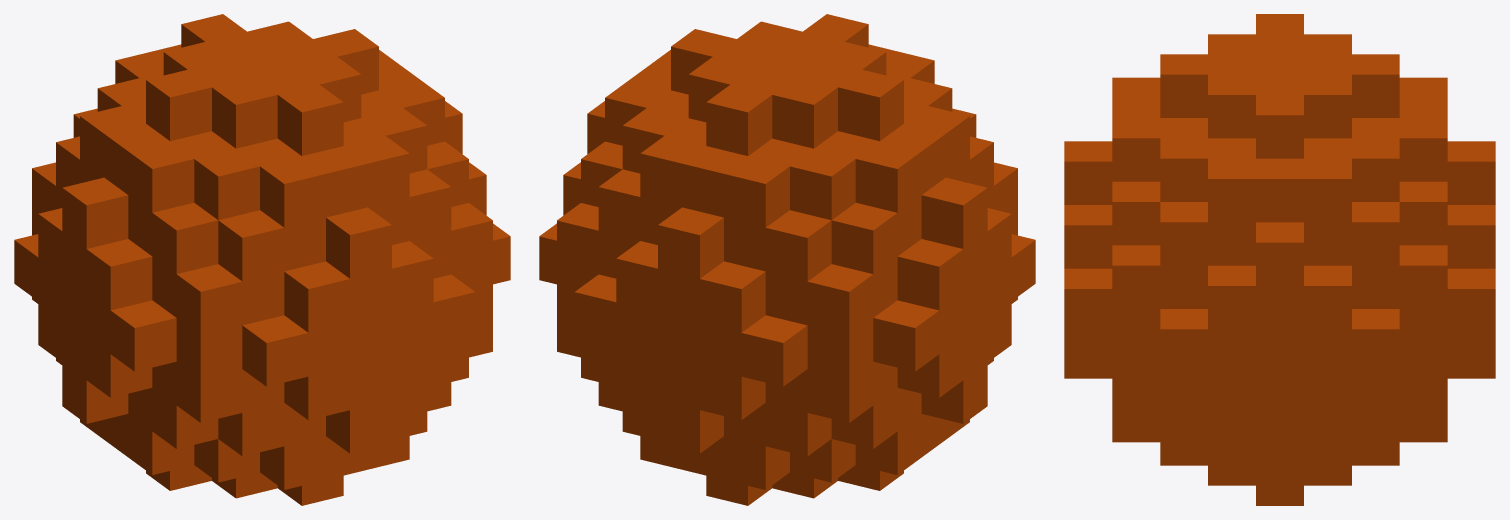
File: fireball.obj
3 renders of one model, left to right at view 1: azimuth 30°, elevation 25°; view 2: azimuth 150°, elevation 25°; view 3: azimuth 270°, elevation 25°, orthographic.
Bounding box in the file's own units: 0.9 × 0.9 × 0.9.
Materials: 1 (1 with a texture image).
